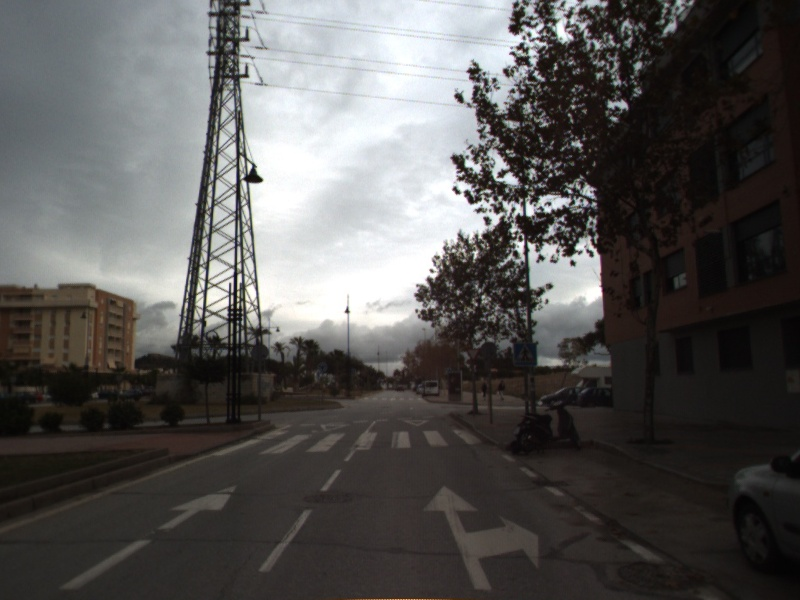STRAIGHT: (55, 482, 240, 592)
STRAIGHT_RIGHT: (420, 483, 541, 592)
